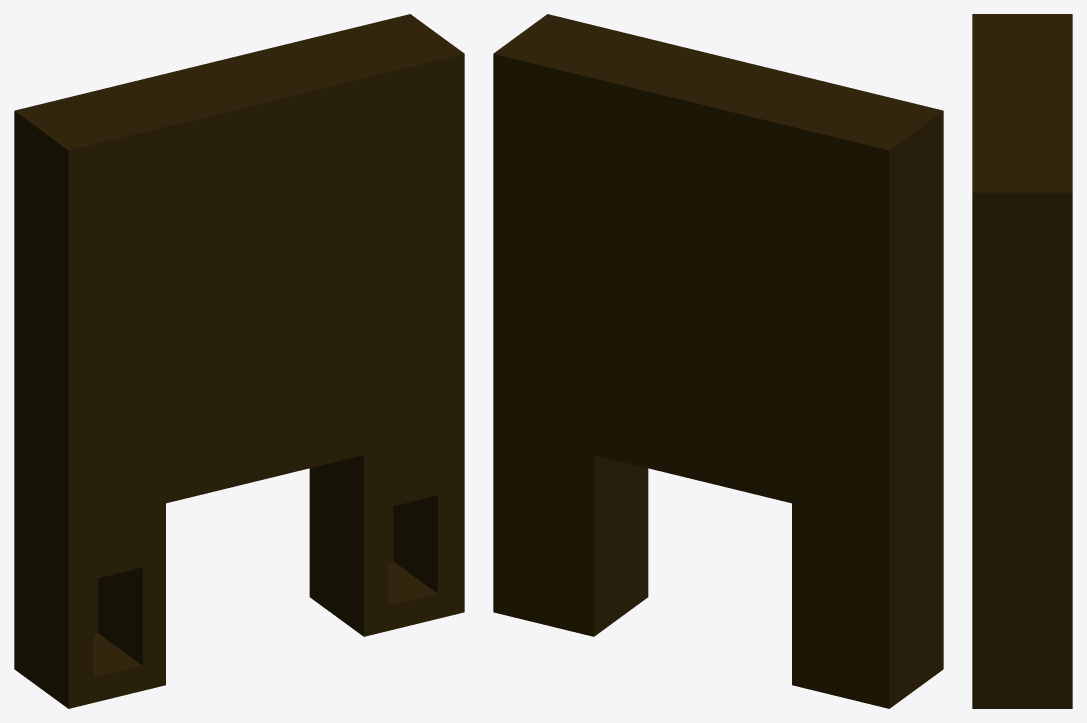
The model's file is BowlingLine_Back.fbx.
3 views of the same model, side by side, from view 1: azimuth 30°, elevation 25°; view 2: azimuth 150°, elevation 25°; view 3: azimuth 270°, elevation 25° (orthographic). The views are drawn at different scales.
Visible parts, largest first — view 1: Cube; view 2: Cube; view 3: Cube.
Boxes of the visible parts, x1=… form: Cube: x1=14, y1=14, x2=464, y2=708; Cube: x1=493, y1=14, x2=943, y2=708; Cube: x1=972, y1=14, x2=1072, y2=708.
Bounding box in the file's own units: 841 × 1133 × 200.
